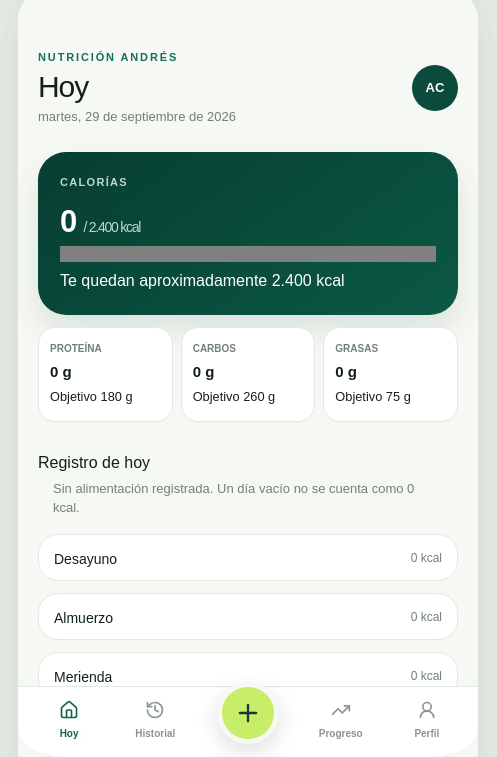
Test case: NutritionApp › navigates through the main sections and shows the photo privacy rule
Check: the heading "Hoy" is shown, box [38,70,88,102]
Click the button "Historial" at point(155, 720), box [112,695,198,744]
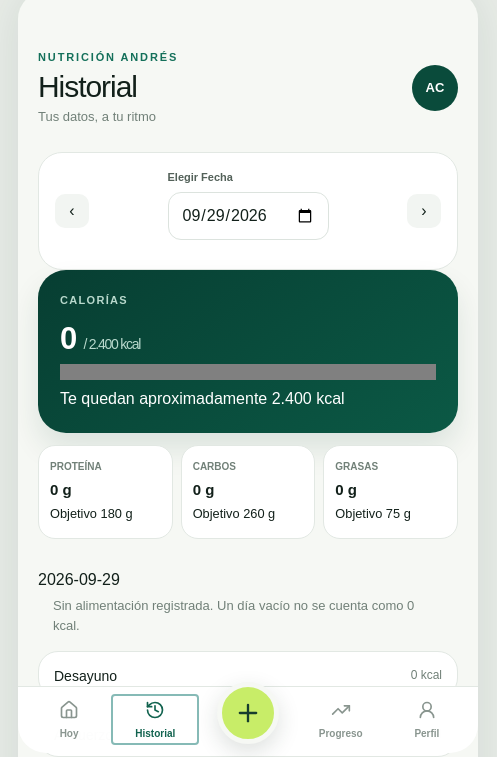
Check: the heading "Historial" is shown, box [38,70,137,102]
Click the button "Progreso" at point(341, 720), box [298,695,384,744]
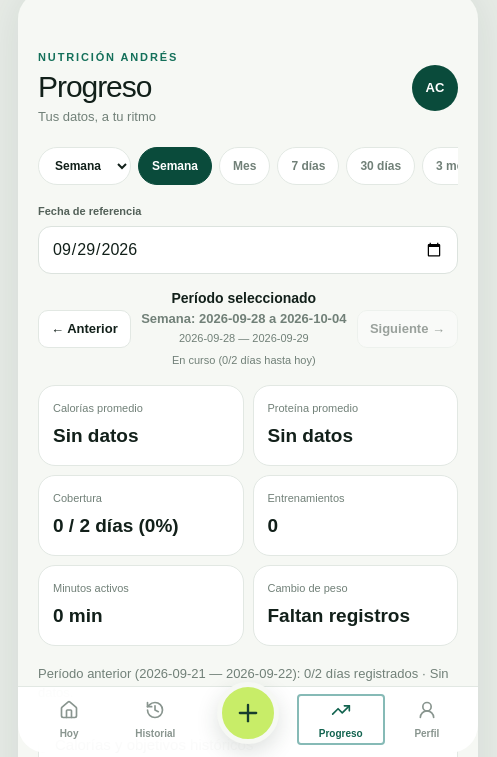
Check: the heading "Progreso" is shown, box [38,70,151,102]
Click the button "Perfil" at point(427, 720), box [384,695,470,744]
(page scrolled)
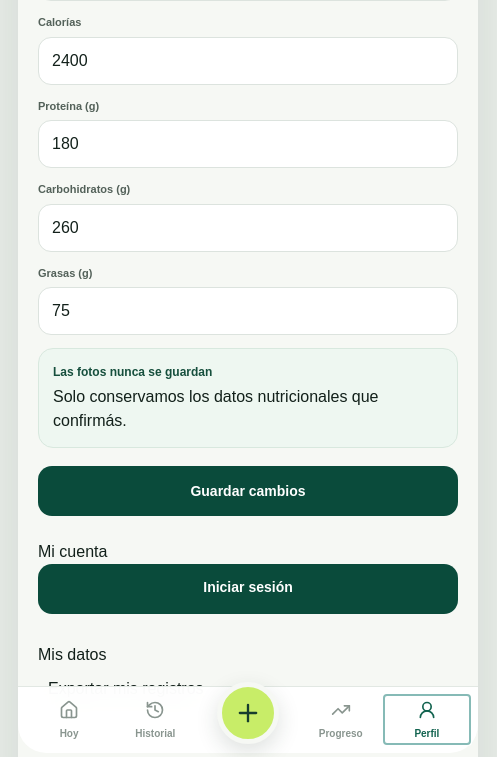
Check: the text "Las fotos nunca se guardan" is shown, box [53,365,212,379]
